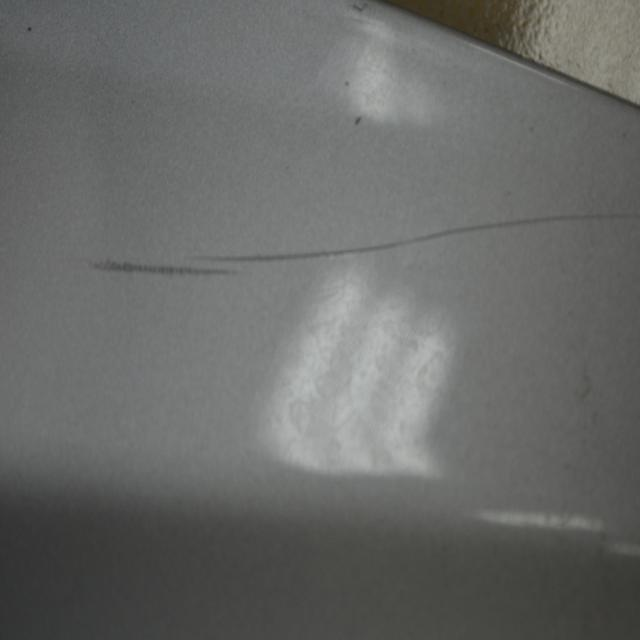dirt: (352, 110, 364, 126), (342, 77, 352, 90), (25, 23, 35, 32)
scratch: (196, 210, 629, 274), (84, 255, 233, 284)
